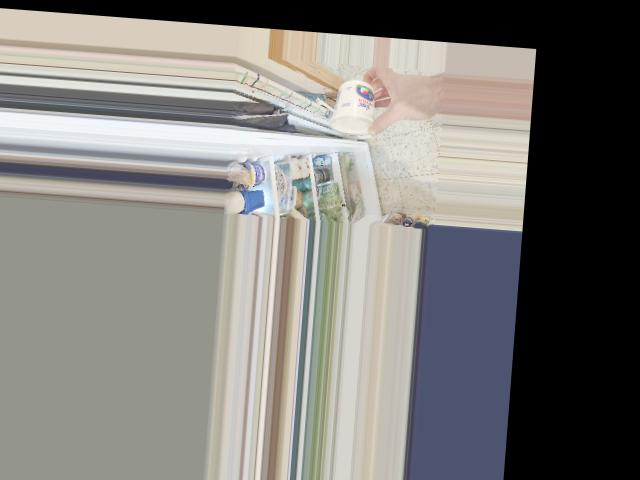cotage: (329, 72, 381, 138)
